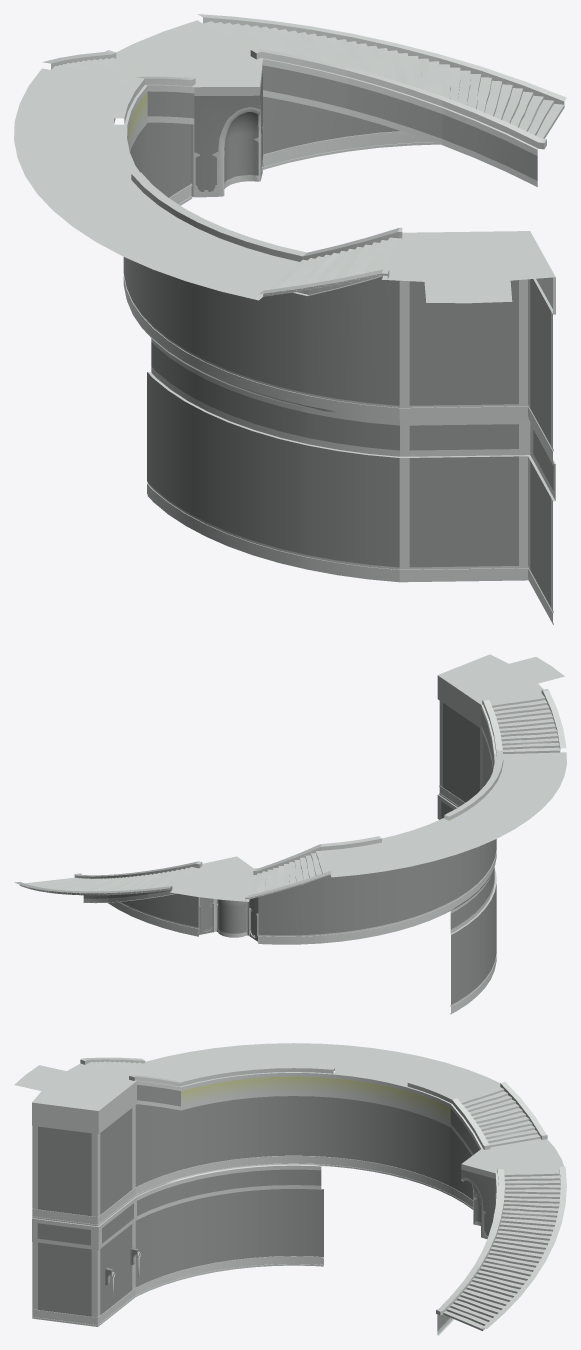
The picture shows the model from 3 angles, top to bottom: view 1: azimuth 30°, elevation 25°; view 2: azimuth 150°, elevation 25°; view 3: azimuth 270°, elevation 25°; orthographic projection. The views are drawn at different scales.
Visible parts, largest first — view 1: G:\FFXIV-MapTools\exports\n4t2\bg\ex3\01_nvt_n4\twn\n4t2\bgp (×6); view 2: G:\FFXIV-MapTools\exports\n4t2\bg\ex3\01_nvt_n4\twn\n4t2\bgp (×6); view 3: G:\FFXIV-MapTools\exports\n4t2\bg\ex3\01_nvt_n4\twn\n4t2\bgp (×6).
Boxes of the visible parts, <box> form: G:\FFXIV-MapTools\exports\n4t2\bg\ex3\01_nvt_n4\twn\n4t2\bgp (×6): <box>14,14,566,624</box>; G:\FFXIV-MapTools\exports\n4t2\bg\ex3\01_nvt_n4\twn\n4t2\bgp (×6): <box>14,654,566,1014</box>; G:\FFXIV-MapTools\exports\n4t2\bg\ex3\01_nvt_n4\twn\n4t2\bgp (×6): <box>14,1043,566,1335</box>.
Size of the model in its own units: 54.62 by 28.5 by 64.78.
